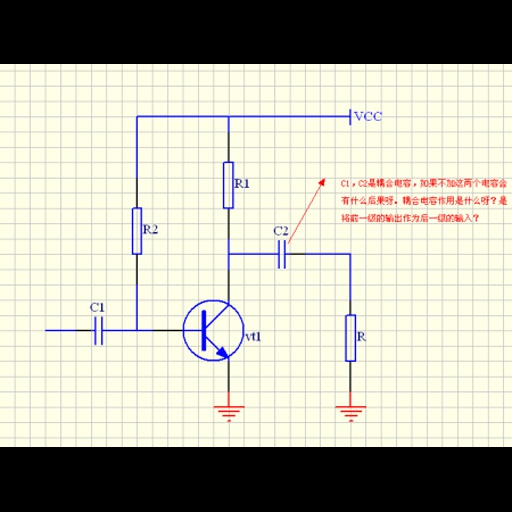capacitor: (87, 314, 110, 347), (273, 238, 288, 270)
firstresistance: (337, 309, 357, 365), (124, 205, 144, 257), (218, 159, 235, 213)
gnd: (209, 403, 250, 424), (329, 403, 371, 423)
npn: (194, 305, 232, 360)
